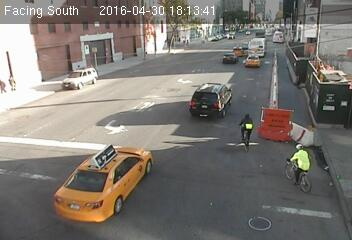neg: (281, 137, 322, 191), (229, 105, 263, 150)
pos: (2, 71, 17, 91), (222, 36, 234, 51), (193, 52, 202, 63)
